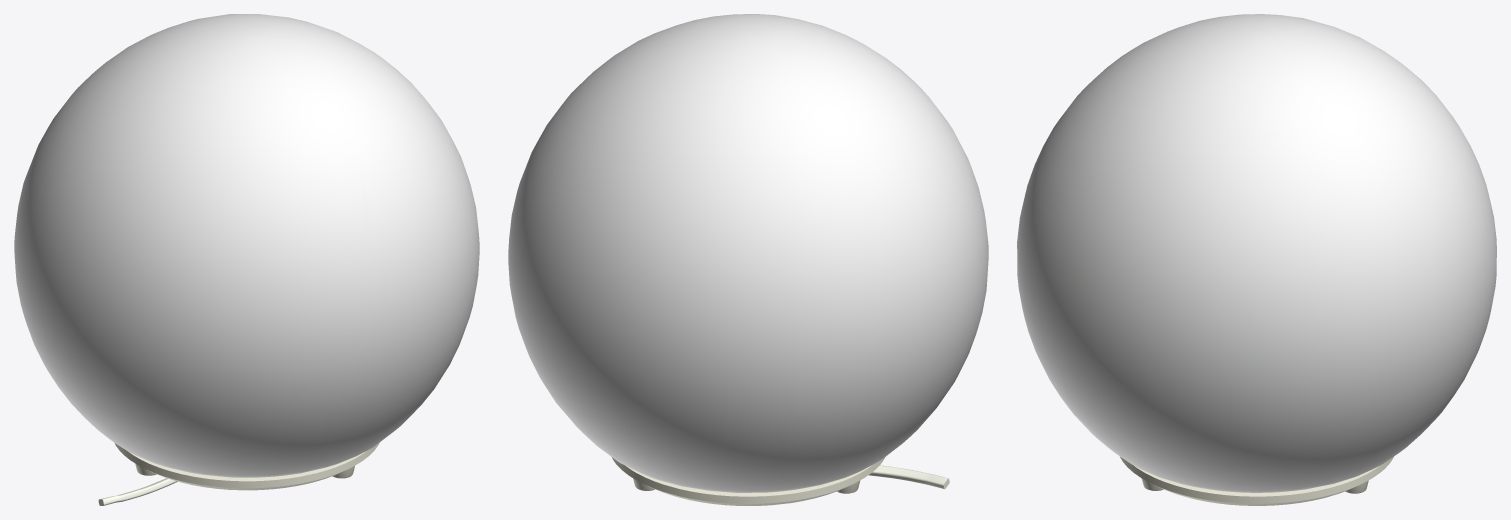
The model's file is fado_lampa_stoowa_80096372.glb.
3 renders of one model, left to right at view 1: azimuth 30°, elevation 25°; view 2: azimuth 150°, elevation 25°; view 3: azimuth 270°, elevation 25°, orthographic. The views are drawn at different scales.
Visible parts, largest first — view 1: fado_lampa_stoowa_80096372; view 2: fado_lampa_stoowa_80096372; view 3: fado_lampa_stoowa_80096372.
Part boxes in pixels (x1,y1,x2,y2): fado_lampa_stoowa_80096372: (14,14,479,505); fado_lampa_stoowa_80096372: (508,14,988,505); fado_lampa_stoowa_80096372: (1017,14,1496,505).
Bounding box in the file's own units: 0.24 × 0.2365 × 0.2398.
1 material, 1 textured.
